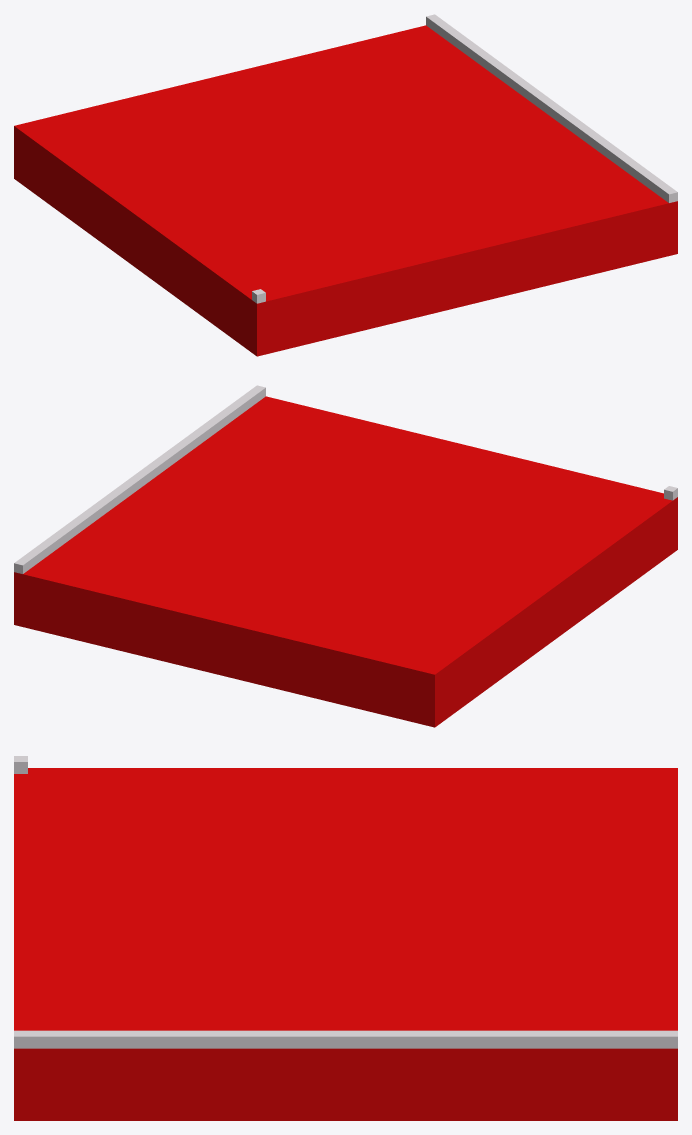
File: 1side_1corner_1.glb
The picture shows the model from 3 angles, top to bottom: view 1: azimuth 30°, elevation 25°; view 2: azimuth 150°, elevation 25°; view 3: azimuth 270°, elevation 25°; orthographic projection. The views are drawn at different scales.
Parts seen in each view (by area): view 1: 1side_2corner.001, center.023; view 2: 1side_2corner.001, center.023; view 3: 1side_2corner.001, center.023.
Part boxes in pixels (bbox=[...]): 1side_2corner.001: bbox=[14, 25, 677, 356]; center.023: bbox=[426, 14, 677, 202]; 1side_2corner.001: bbox=[14, 396, 677, 727]; center.023: bbox=[14, 385, 265, 573]; 1side_2corner.001: bbox=[14, 768, 677, 1120]; center.023: bbox=[14, 1030, 677, 1048].
Bounding box in the file's own units: 1 × 0.14 × 1.
